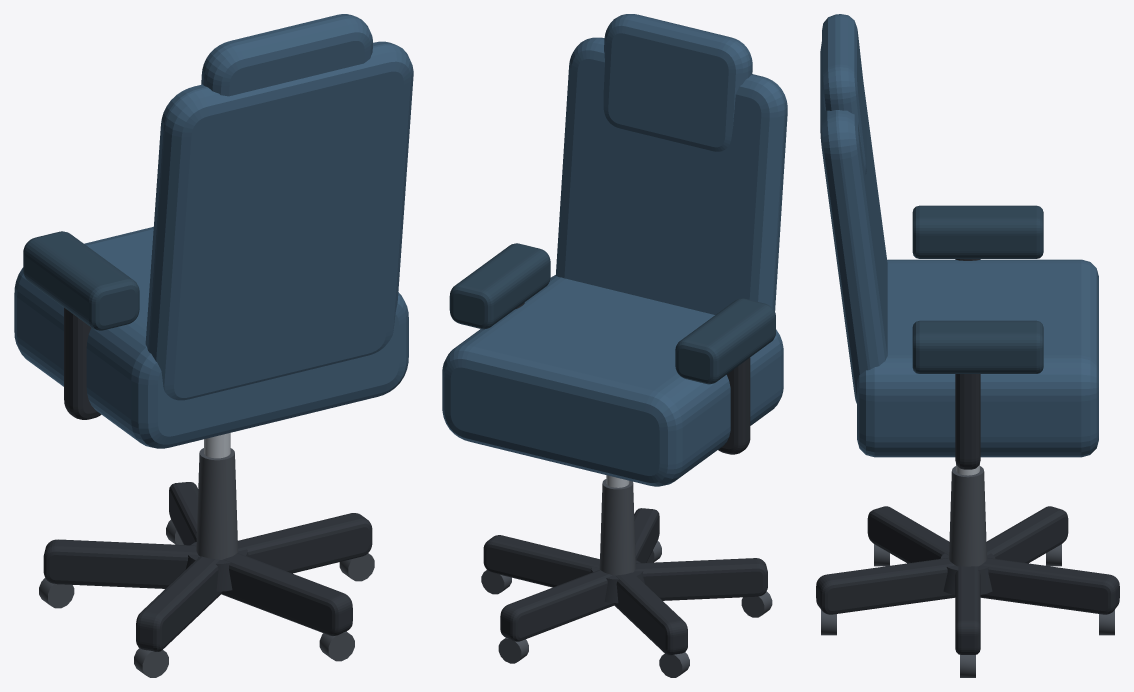
Rendered from ergonomic_chair.glb.
3 views of the same model, side by side, from view 1: azimuth 30°, elevation 25°; view 2: azimuth 150°, elevation 25°; view 3: azimuth 270°, elevation 25° (orthographic). The views are drawn at different scales.
Visible parts, largest first — view 1: ergonomic_chair_refined; view 2: ergonomic_chair_refined; view 3: ergonomic_chair_refined.
Part boxes in pixels (bbox=[...]): ergonomic_chair_refined: bbox=[14, 14, 413, 677]; ergonomic_chair_refined: bbox=[442, 14, 787, 677]; ergonomic_chair_refined: bbox=[816, 14, 1119, 677].
Bounding box in the file's own units: 0.643 × 1.26 × 0.6021.
